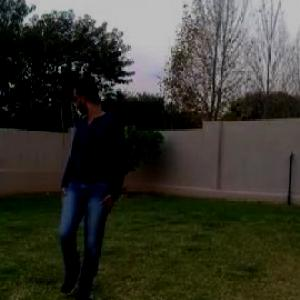follow: (61, 74, 116, 290)
